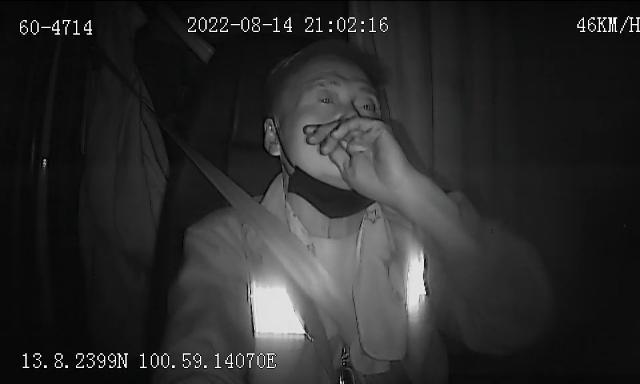Seatbelt: (192, 156, 358, 340)
